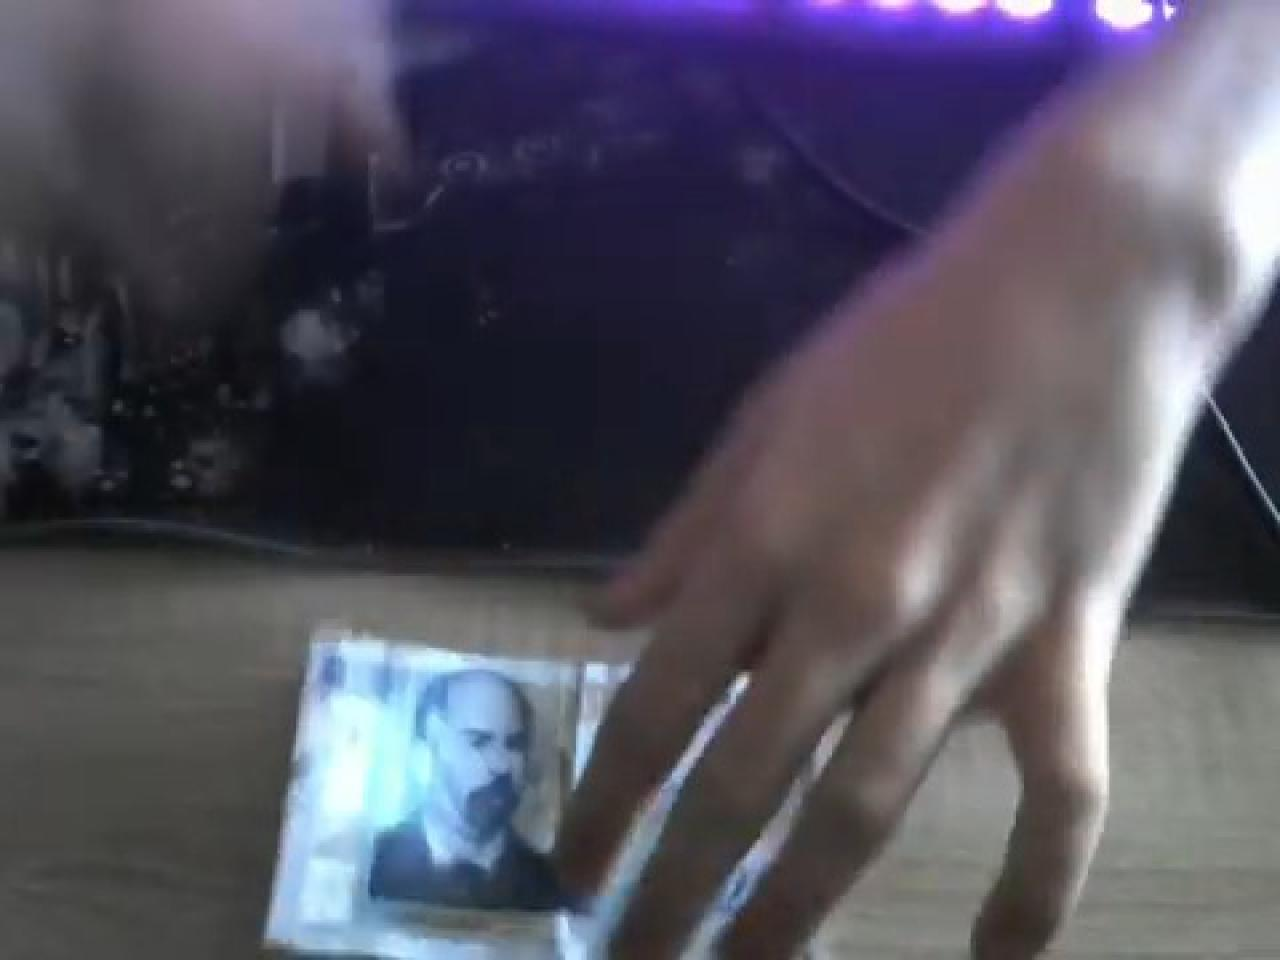20leva: (363, 664, 570, 912)
